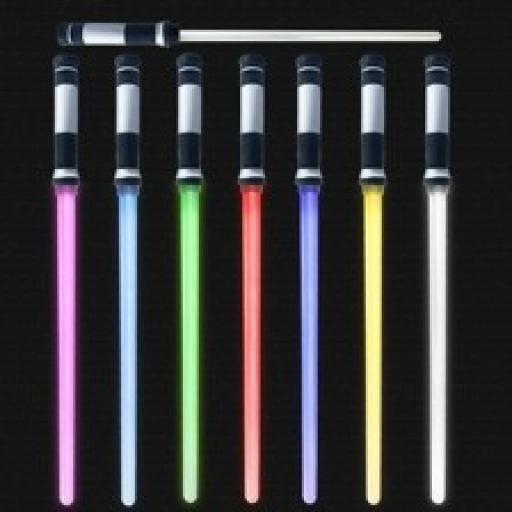lightsaber: (173, 55, 205, 502), (357, 57, 389, 501), (234, 55, 265, 503), (292, 57, 323, 500), (51, 56, 81, 506), (422, 60, 452, 502), (117, 56, 141, 506), (58, 22, 445, 45)
